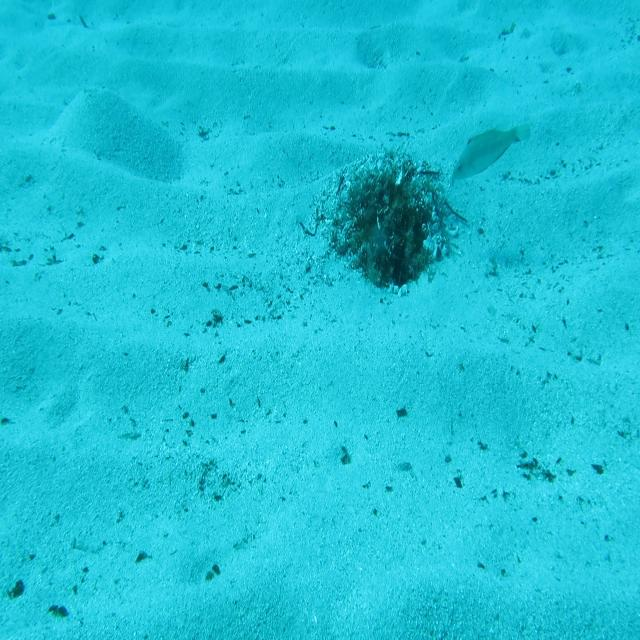LAND: (447, 119, 535, 189)
nest: (332, 139, 456, 302)
